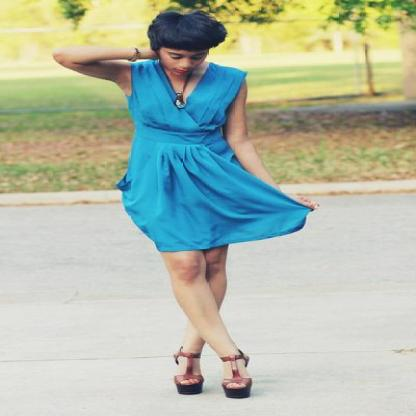dress: (116, 60, 311, 251)
shoe: (174, 341, 252, 398)
